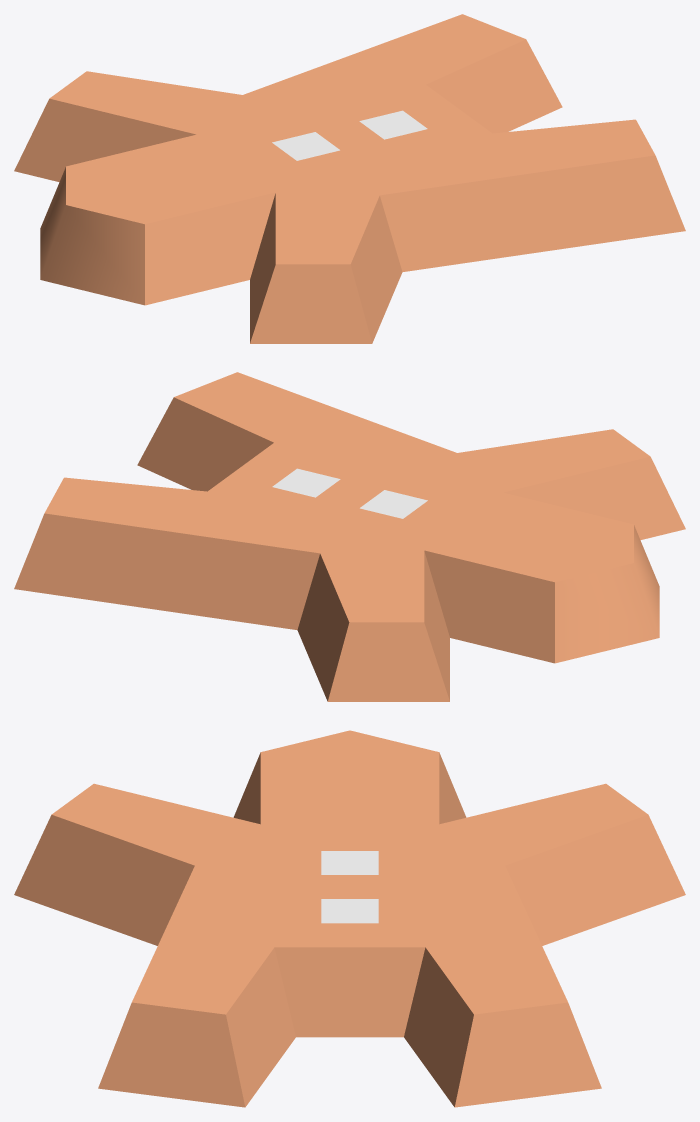
Rendered from gingerBread.obj.
3 renders of one model, top to bottom at view 1: azimuth 30°, elevation 25°; view 2: azimuth 150°, elevation 25°; view 3: azimuth 270°, elevation 25°, orthographic. The views are drawn at different scales.
Parts seen in each view (by area): view 1: gingerBread; view 2: gingerBread; view 3: gingerBread.
Part boxes in pixels (box(x1,y1,x2,y2)): gingerBread: box(14, 14, 685, 343); gingerBread: box(14, 372, 685, 701); gingerBread: box(14, 730, 685, 1107).
Size of the model in its own units: 0.2604 by 0.03 by 0.2356.
